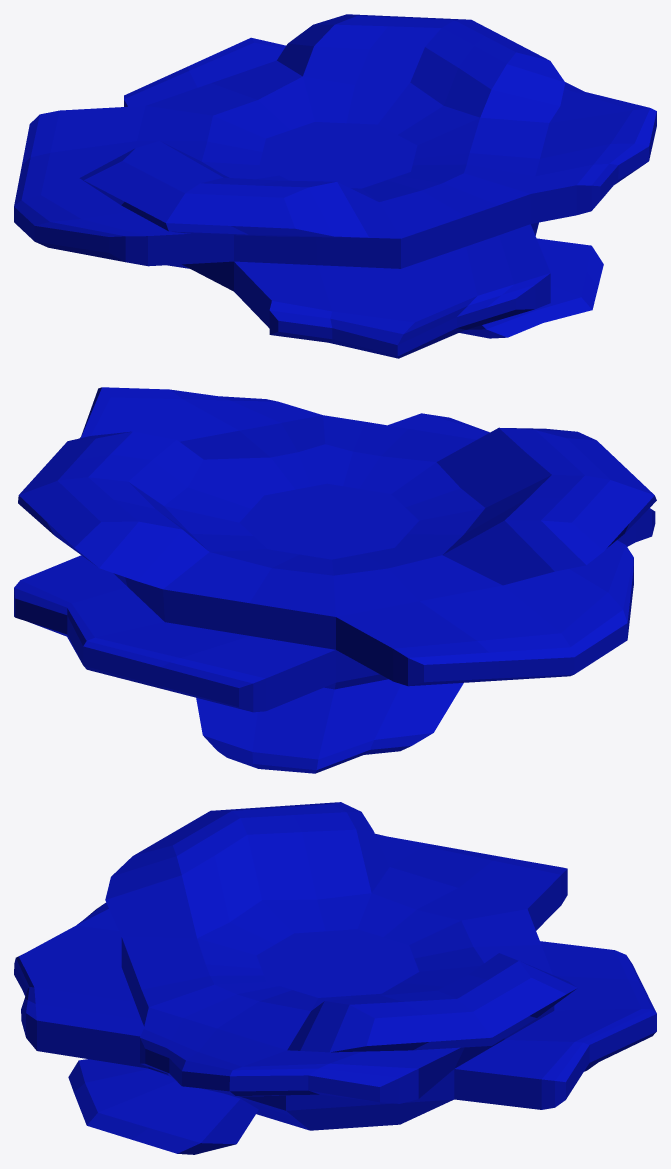
Rendered from propCoral2.fbx.
The picture shows the model from 3 angles, top to bottom: view 1: azimuth 30°, elevation 25°; view 2: azimuth 150°, elevation 25°; view 3: azimuth 270°, elevation 25°; orthographic projection. The views are drawn at different scales.
Parts seen in each view (by area): view 1: Coral2; view 2: Coral2; view 3: Coral2.
Boxes of the visible parts, left/top/right/bottom form: Coral2: left=14, top=14, right=656, bottom=358; Coral2: left=14, top=387, right=656, bottom=773; Coral2: left=14, top=802, right=656, bottom=1154.
Bounding box in the file's own units: 341 × 103 × 338.
